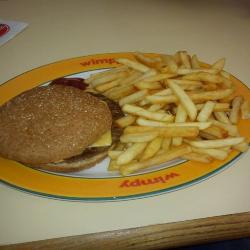burger: (4, 79, 124, 173)
fries: (116, 60, 231, 160)
